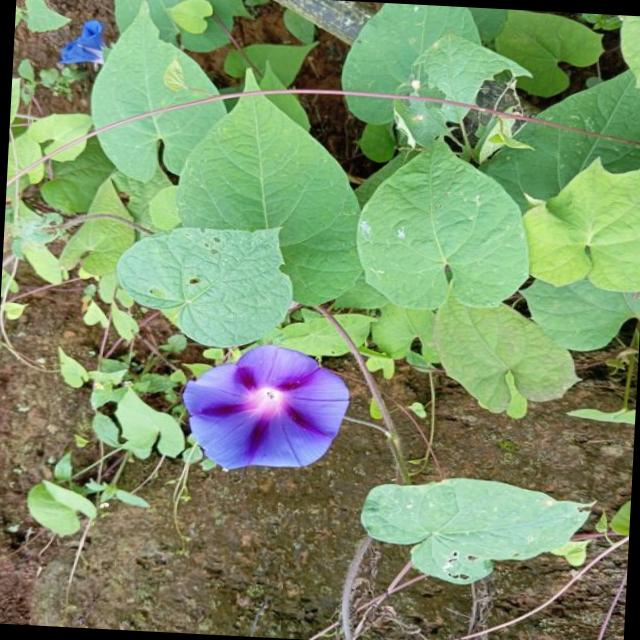ipomoea: (175, 338, 357, 478)
